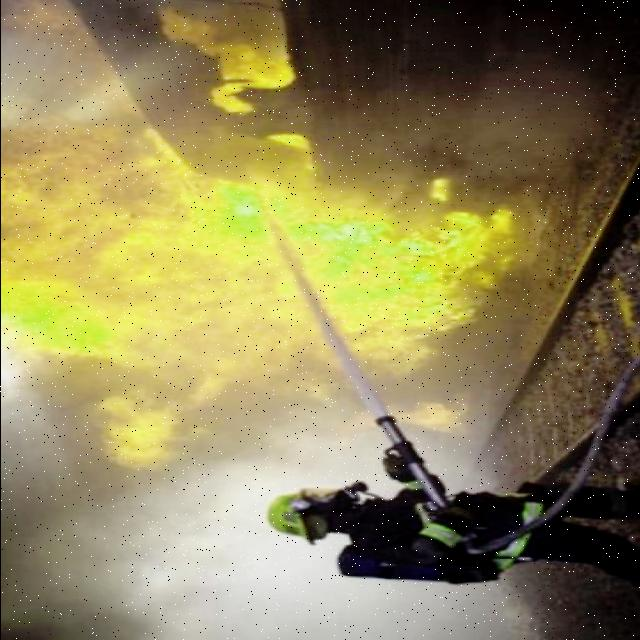api: (1, 127, 508, 399), (159, 8, 296, 107), (108, 392, 202, 470)
asap: (1, 488, 283, 640), (236, 405, 391, 493)
